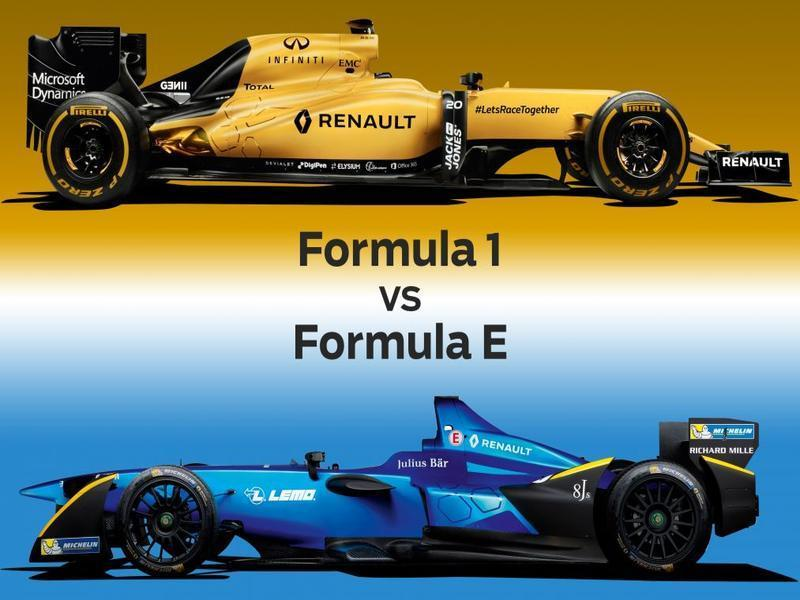f1: (20, 15, 800, 230)
